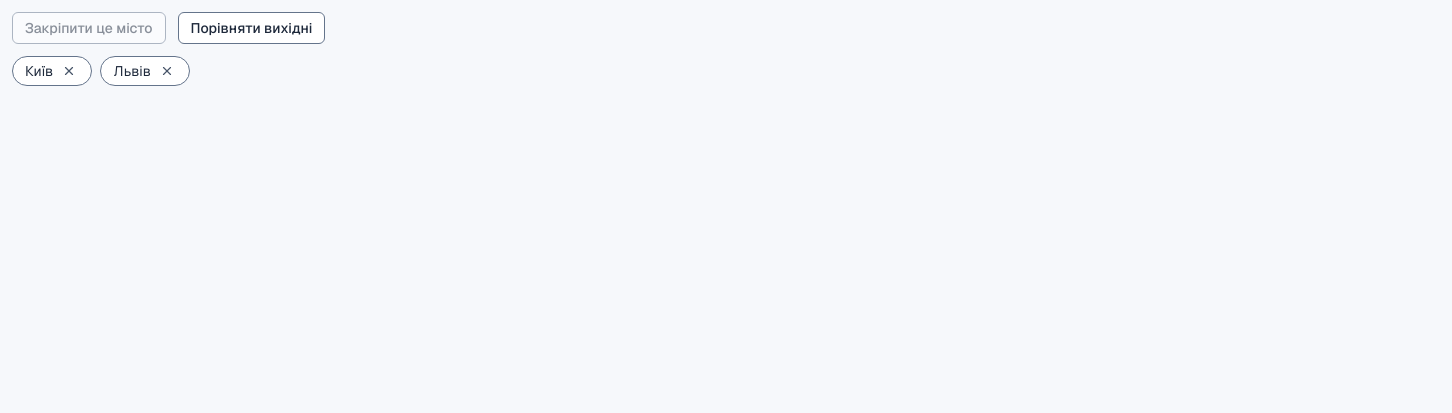
CompareSection — 3 columns from a PARALLEL /api/forecast (FR-COMPARE-02, D4) › a present 0% precip renders '0', an absent precip renders the em-dash placeholder
Click the switch labelled "Порівняти вихідні": point(252, 28) [178,12,326,44]
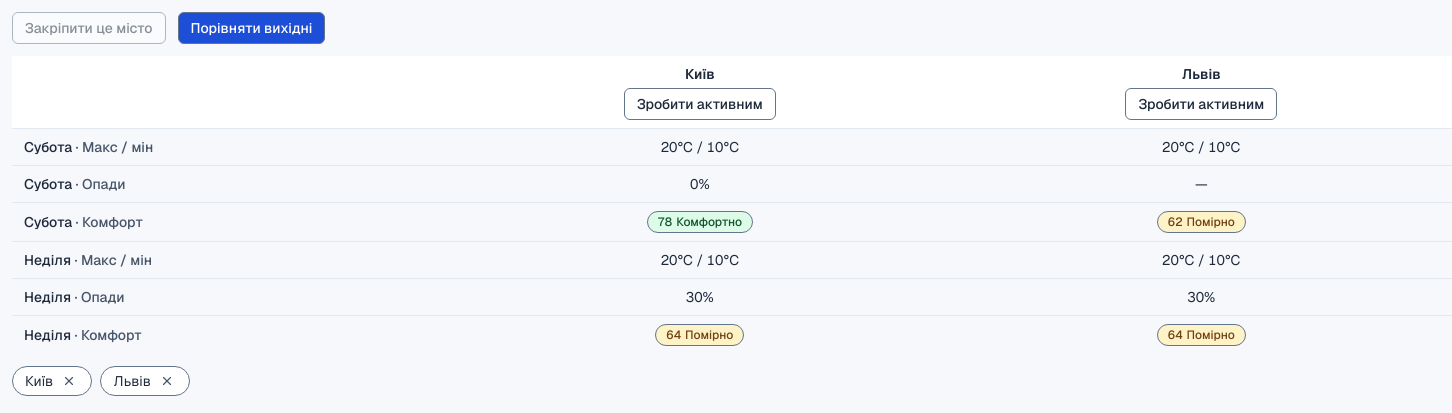
Expected: the table shows "0", [690,175,710,193]
Expected: the table shows "—", [1195,175,1208,193]
